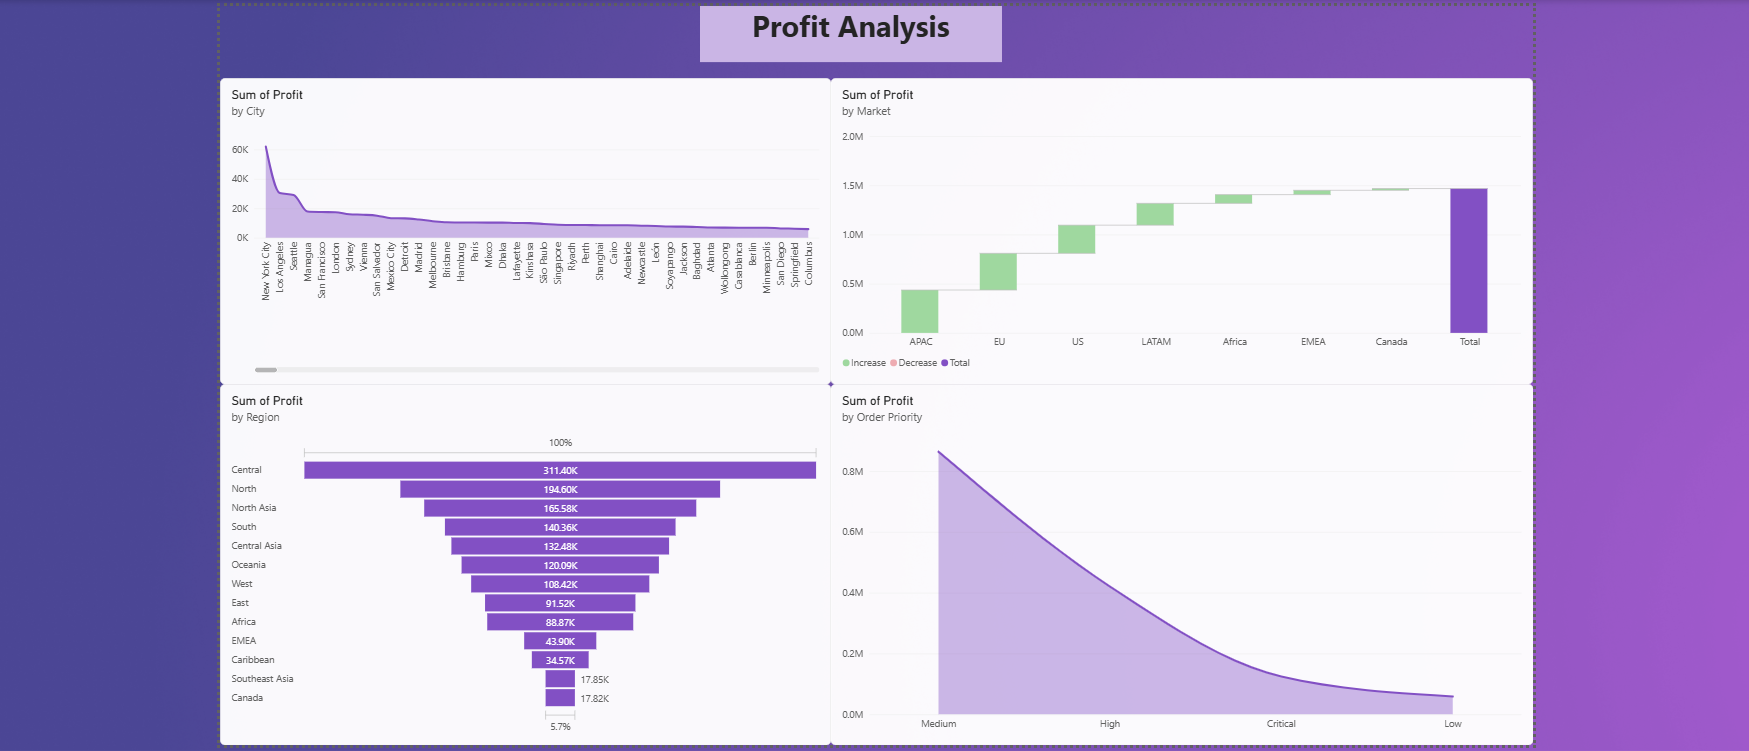

What the dashboard file says about the page in this screenshot:
{"tool":"powerbi","page":{"name":"Page 3","canvas":[1920,1080],"ordinal":2},"visuals":[{"type":"areaChart","fields":{"Category":["Orders.City"],"Y":["Sum(Orders.Profit)"]},"box":[0,104.2,893.5,447.9],"z":0},{"type":"funnel","fields":{"Category":["Orders.Region"],"Y":["Sum(Orders.Profit)"]},"box":[0,552.1,893.5,527.7],"z":1},{"type":"waterfallChart","fields":{"Category":["Orders.Market"],"Y":["Sum(Orders.Profit)"]},"box":[892.2,105.2,1026.5,447.9],"z":2},{"type":"stackedAreaChart","fields":{"Category":["Orders.Order Priority"],"Y":["Sum(Orders.Profit)"]},"box":[893,552,1027,528],"z":3},{"type":"textbox","box":[700.6,0,441.2,82],"z":4}]}

Visuals, with their boxes on the page's 1920x1080 design canvas (x1, y1, x2, y2). These are canvas units, not pixel positions in the 1749x751 screenshot, which may show the page scaled, cropped or inside an application window:
areaChart - Orders.City x Sum(Orders.Profit): bbox=[0, 104, 894, 552]
funnel - Orders.Region x Sum(Orders.Profit): bbox=[0, 552, 894, 1080]
waterfallChart - Orders.Market x Sum(Orders.Profit): bbox=[892, 105, 1919, 553]
stackedAreaChart - Orders.Order Priority x Sum(Orders.Profit): bbox=[893, 552, 1920, 1080]
textbox: bbox=[701, 0, 1142, 82]
